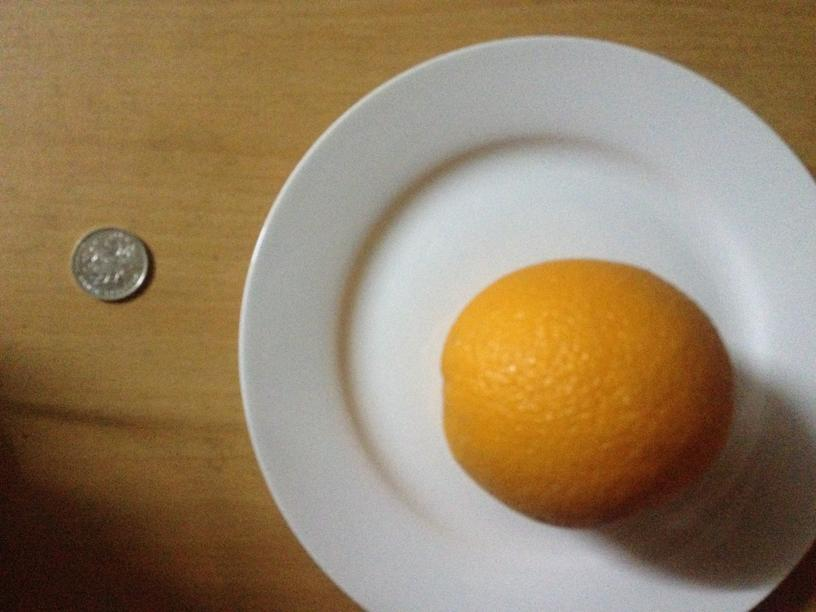coin: (71, 227, 150, 300)
orange: (439, 257, 734, 529)
